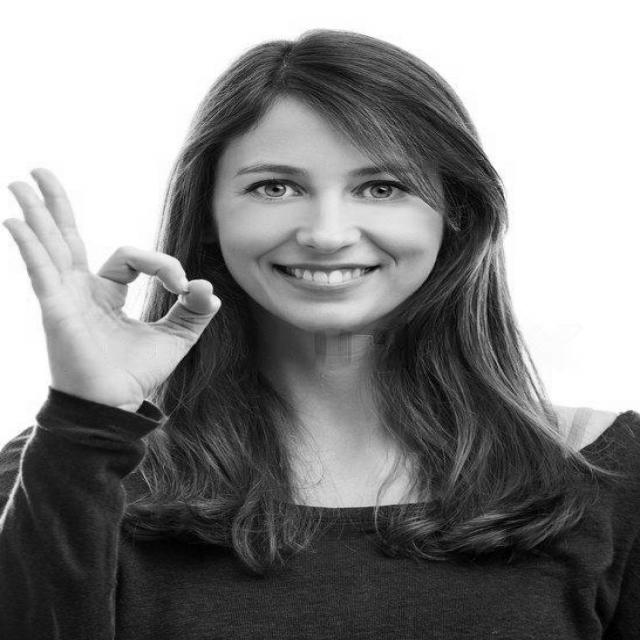perfect: (0, 158, 229, 412)
